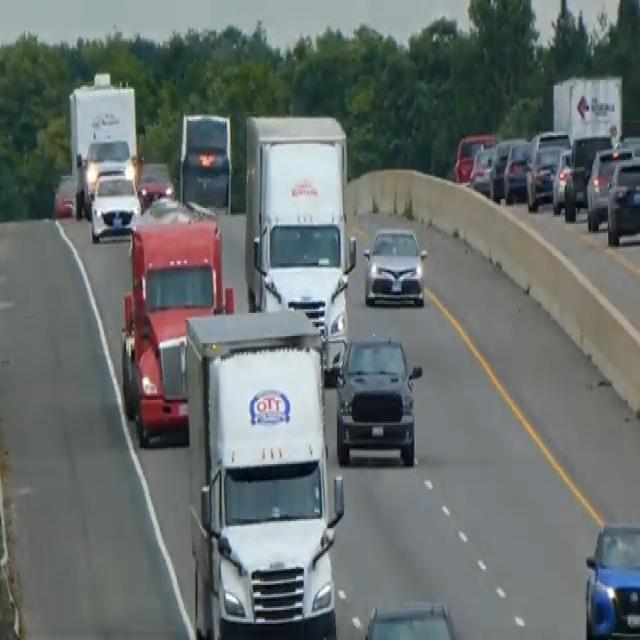bus: (178, 108, 232, 212)
car: (334, 332, 422, 468), (583, 519, 639, 638), (362, 222, 427, 308), (78, 133, 134, 217), (585, 142, 636, 231), (563, 133, 612, 219), (363, 598, 458, 638), (89, 169, 141, 242), (525, 128, 571, 210), (605, 153, 639, 245), (453, 130, 495, 183), (489, 135, 522, 201), (503, 138, 532, 202), (137, 158, 174, 208), (551, 146, 573, 213), (468, 144, 496, 196), (52, 170, 76, 218)
lorry: (182, 306, 346, 636), (120, 201, 233, 446), (243, 108, 356, 346)
